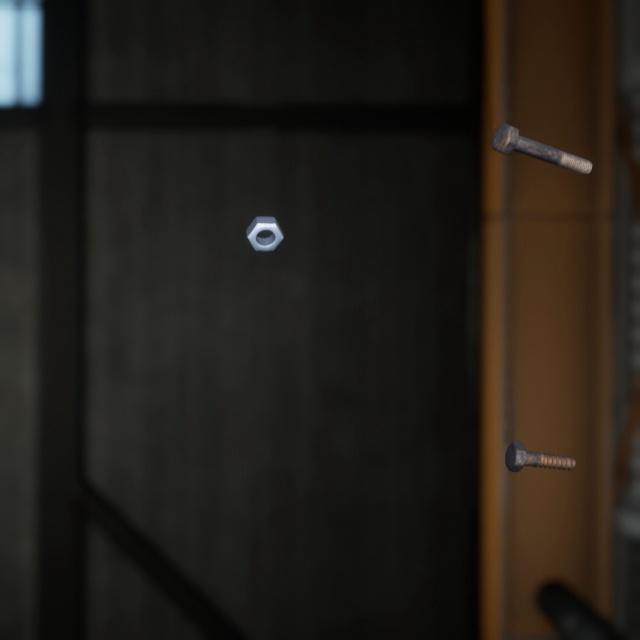bolt: (488, 105, 597, 166), (500, 416, 580, 455)
nut: (241, 195, 288, 239)
